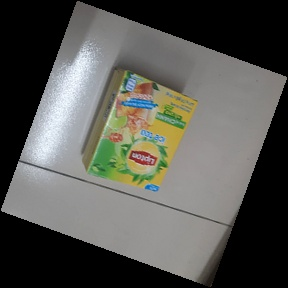LipTon: (81, 68, 200, 195)
